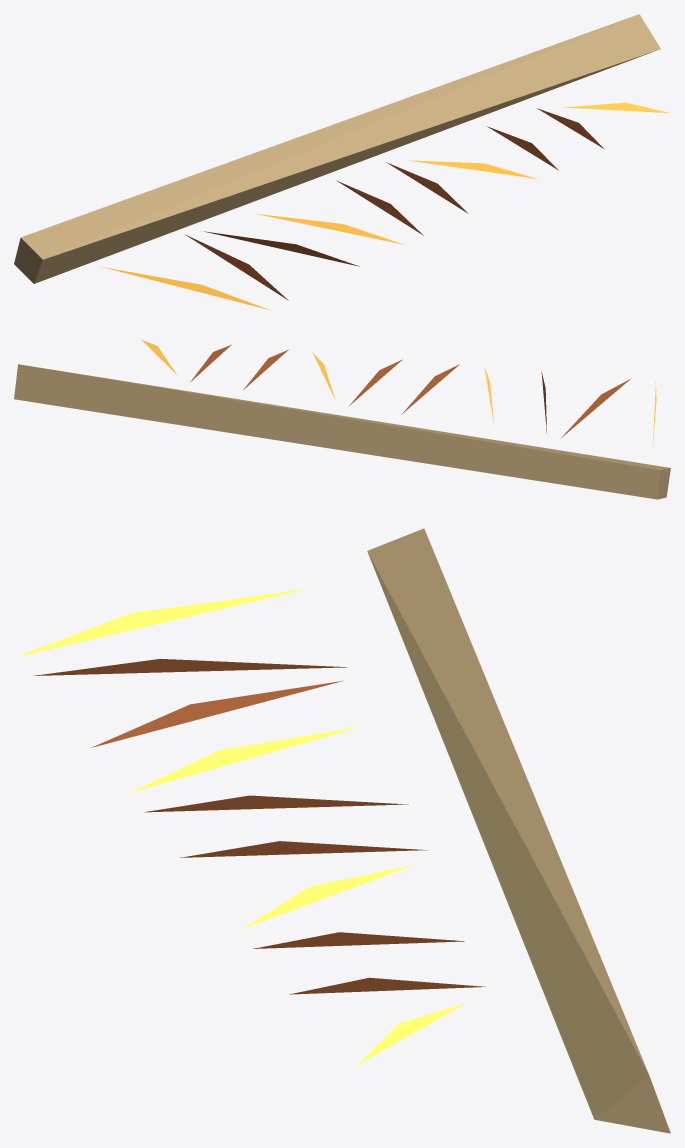
Rendered from wing_r_lod2.glb.
3 views of the same model, one above another, from view 1: azimuth 30°, elevation 25°; view 2: azimuth 150°, elevation 25°; view 3: azimuth 270°, elevation 25° (orthographic). The views are drawn at different scales.
Parts seen in each view (by area): view 1: phoenix_wing_r_LOD2; view 2: phoenix_wing_r_LOD2; view 3: phoenix_wing_r_LOD2.
Part boxes in pixels (x1,y1,x2,y2): phoenix_wing_r_LOD2: (14,14,670,310); phoenix_wing_r_LOD2: (14,339,670,499); phoenix_wing_r_LOD2: (16,528,670,1133).
Bounding box in the file's own units: 5.76 × 0.3695 × 2.84.
